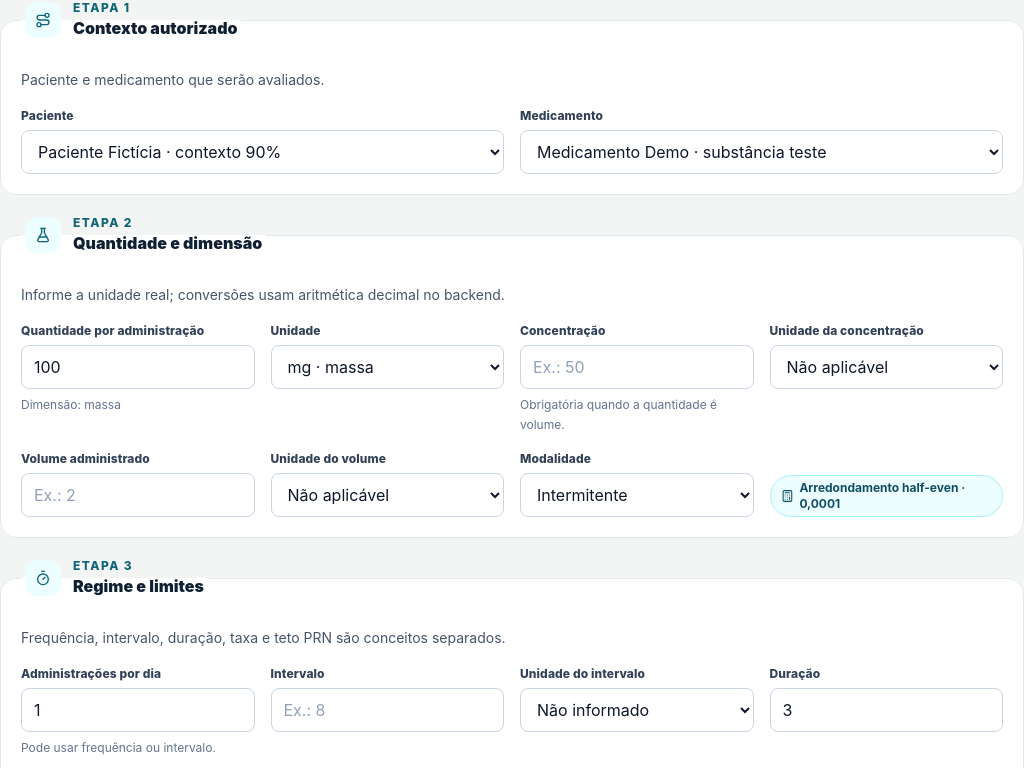
dose estruturada › não aceita volume sem concentração
Select "mL · volume" in the dropdown labelled "Unidade" at (387, 367), box [270,345,504,389]
(page scrolled)
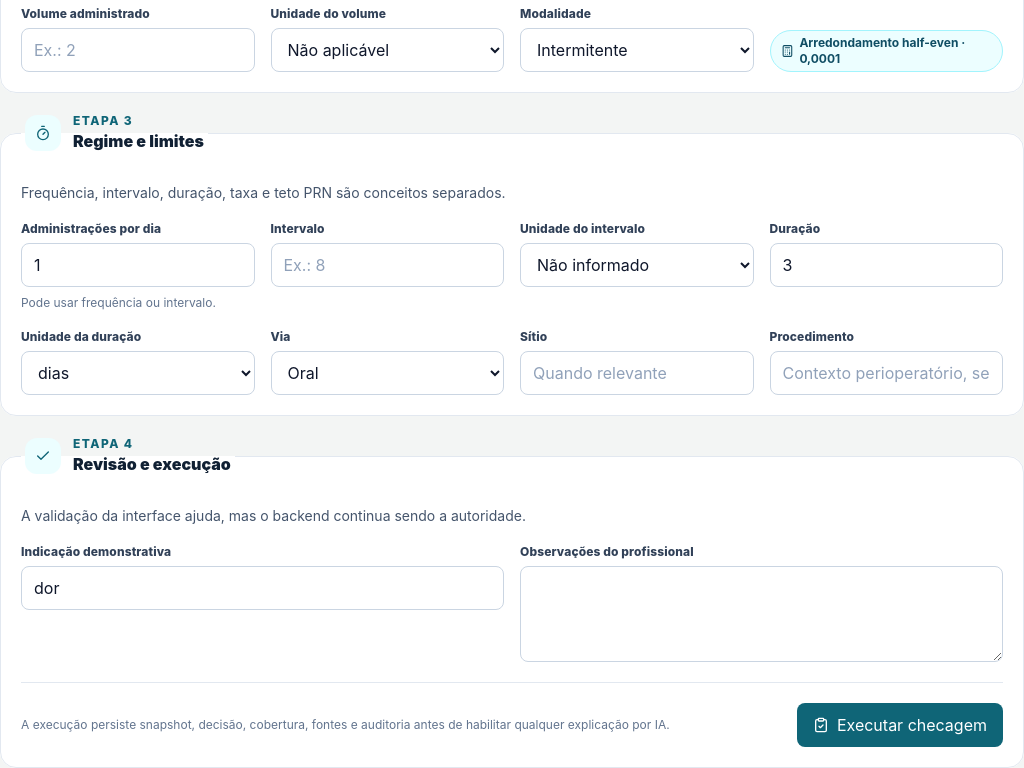
Click the button "Executar checagem" at (900, 725), box [797,703,1003,747]
(page scrolled)
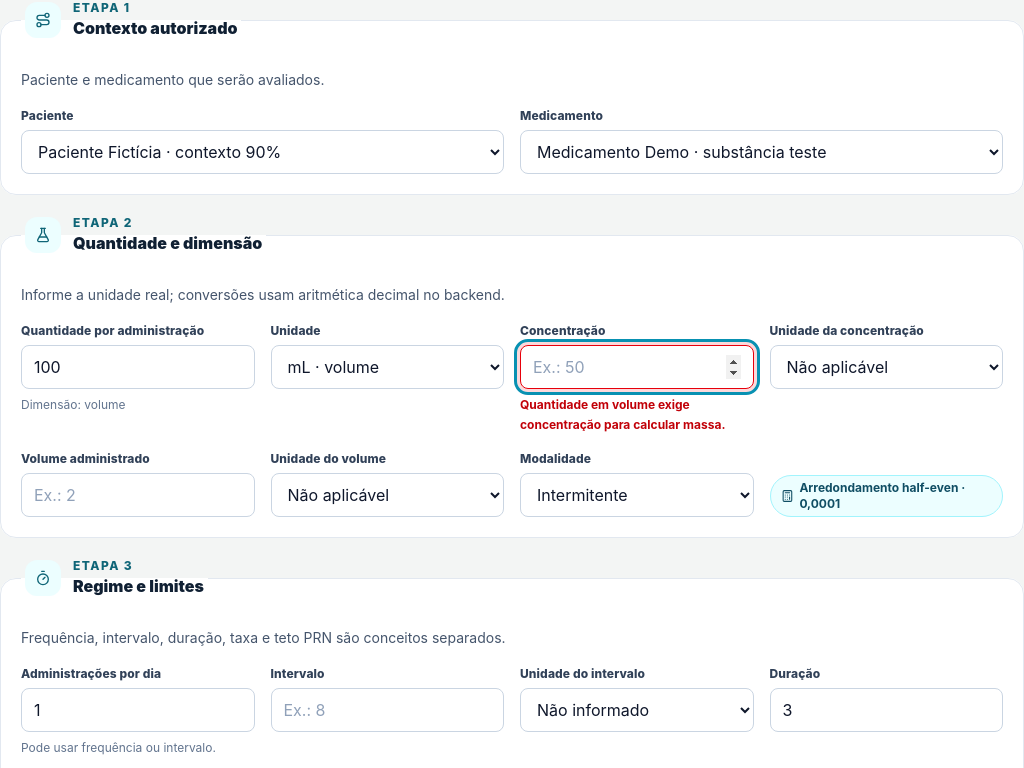
Check: the text "Quantidade em volume exige concentração para calcular massa." is shown, box [520,395,754,435]
